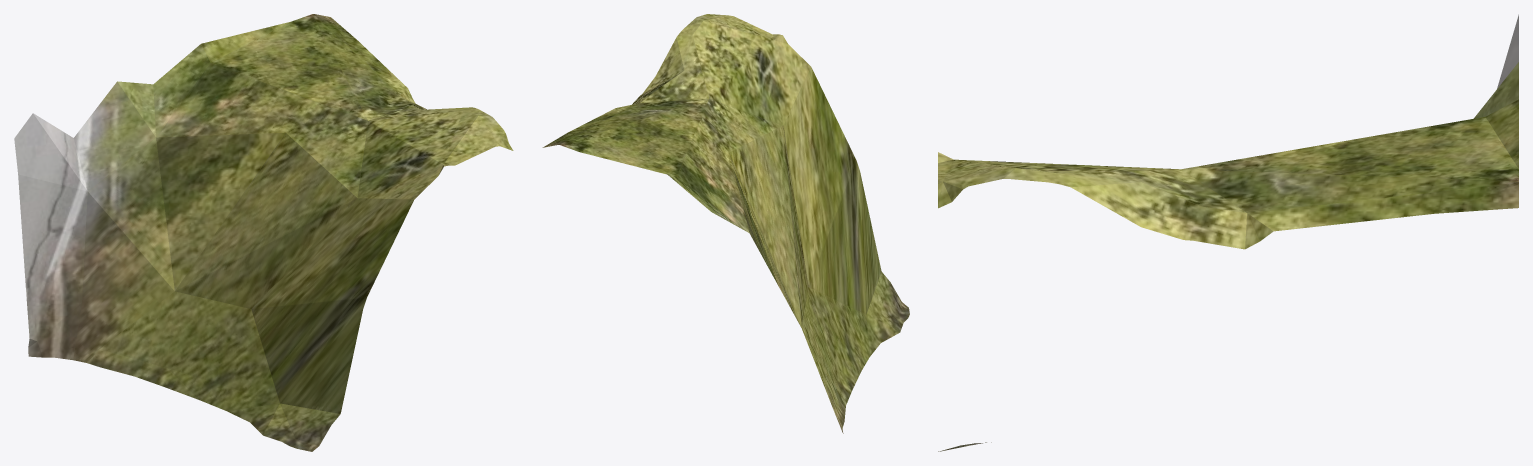
3 views of the same model, side by side, from view 1: azimuth 30°, elevation 25°; view 2: azimuth 150°, elevation 25°; view 3: azimuth 270°, elevation 25° (orthographic). The views are drawn at different scales.
Bounding box in the file's own units: 5.9 × 4.84 × 5.9.
Materials: 3 (3 with a texture image).
